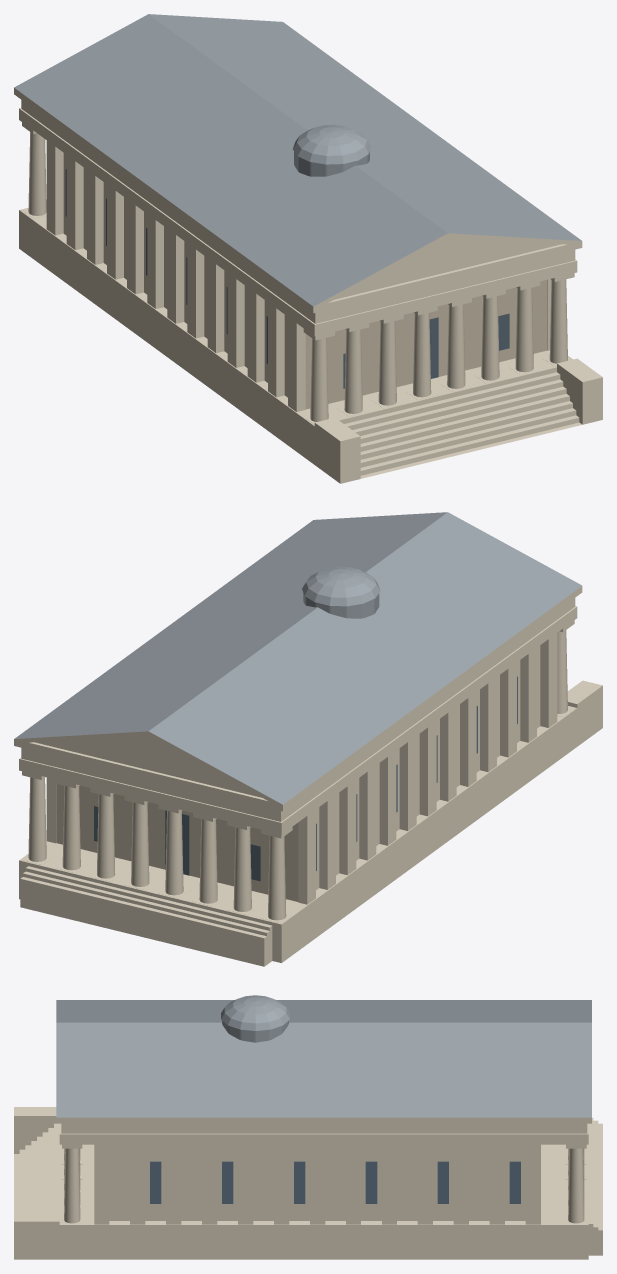
File: nyc-federal-hall.glb
3 views of the same model, one above another, from view 1: azimuth 30°, elevation 25°; view 2: azimuth 150°, elevation 25°; view 3: azimuth 270°, elevation 25° (orthographic). The views are drawn at different scales.
Visible parts, largest first — view 1: Federal Hall National Memorial; view 2: Federal Hall National Memorial; view 3: Federal Hall National Memorial.
Part boxes in pixels (bbox=[...]): Federal Hall National Memorial: bbox=[14, 14, 602, 483]; Federal Hall National Memorial: bbox=[14, 512, 602, 966]; Federal Hall National Memorial: bbox=[14, 995, 602, 1259].
Bounding box in the file's own units: 29.1 × 23 × 61.7.
